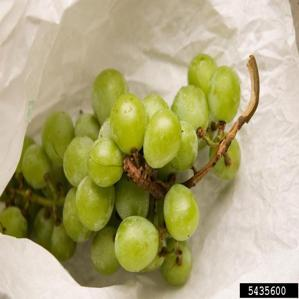Tobacco cutworm: (109, 152, 169, 209)
